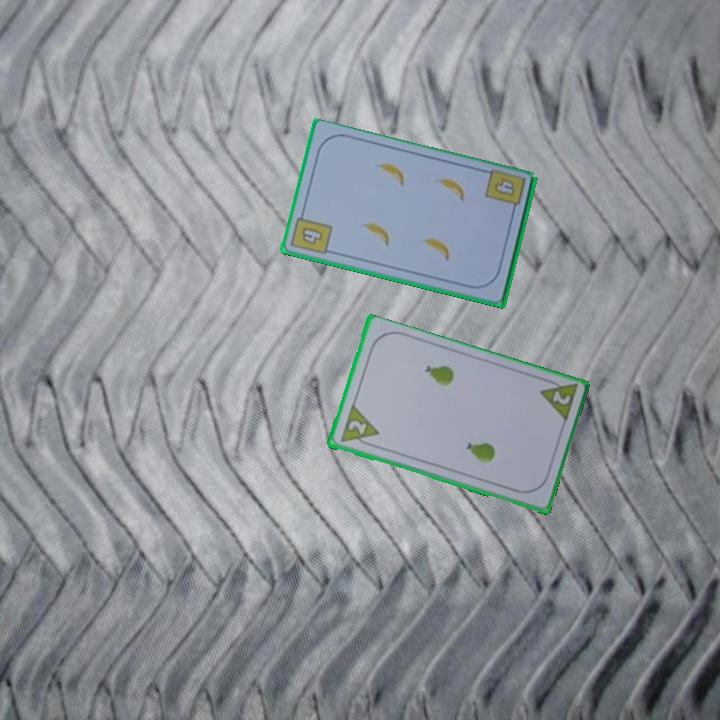2p: (535, 374, 580, 426), (344, 417, 369, 438)
4b: (287, 208, 335, 258), (490, 175, 518, 199)
